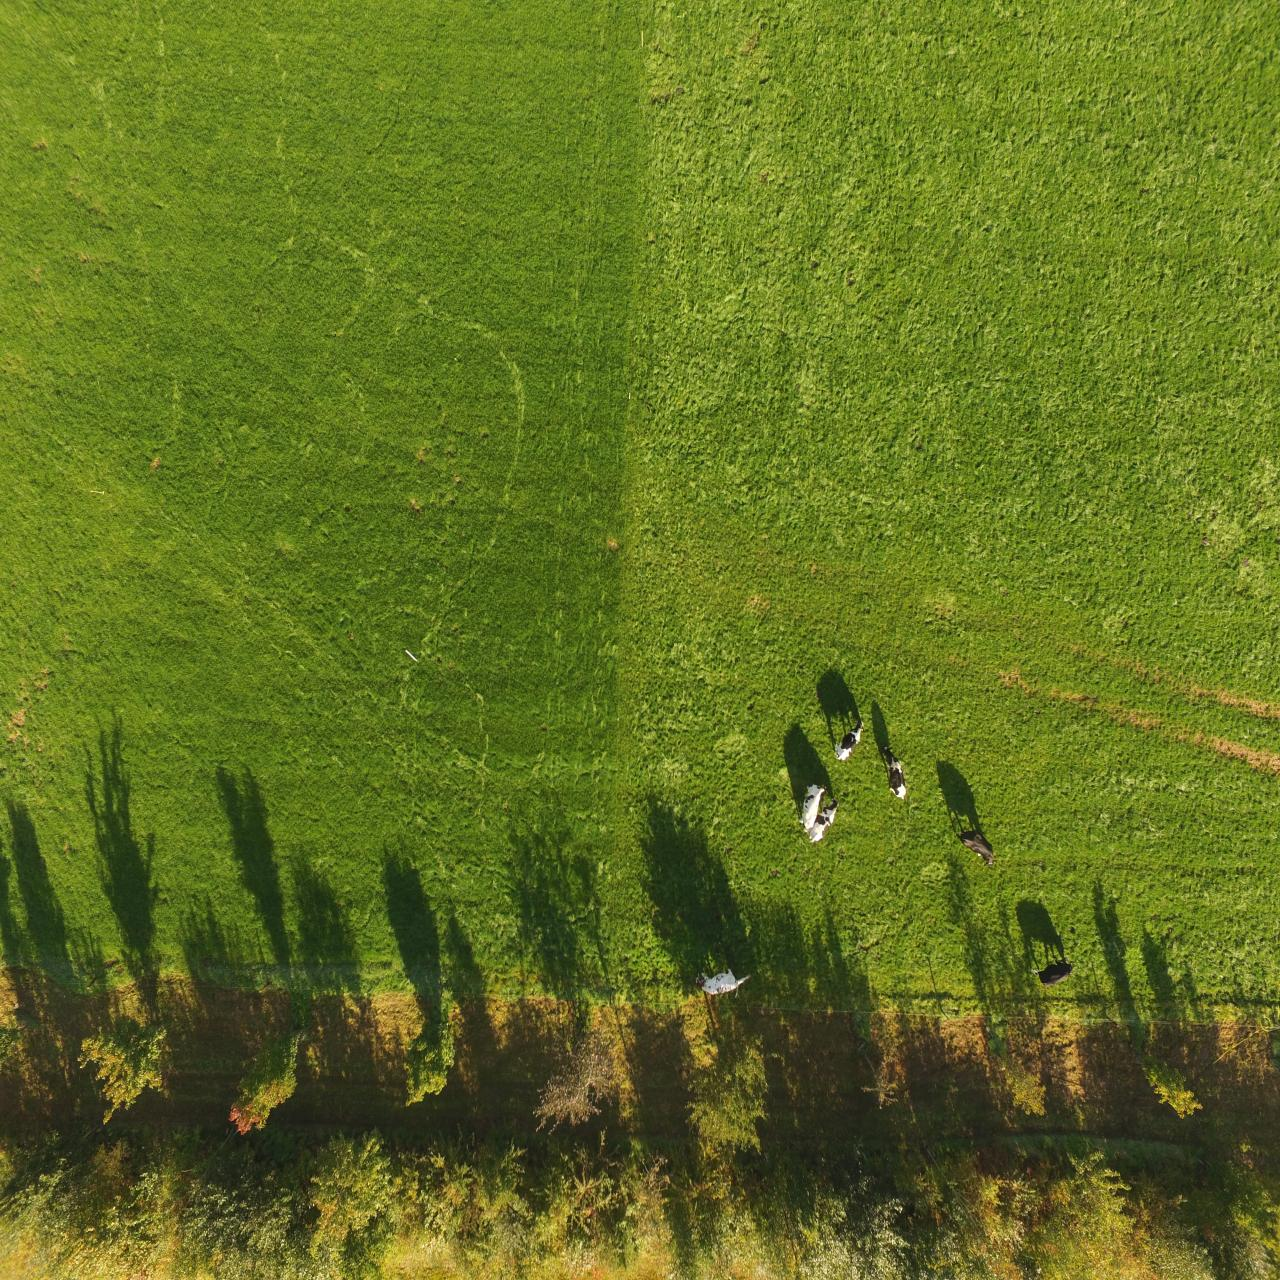cow: (689, 968, 757, 994), (801, 776, 831, 832), (958, 830, 1001, 866), (883, 747, 907, 804), (835, 715, 865, 761), (812, 797, 843, 843), (1034, 956, 1074, 986)
